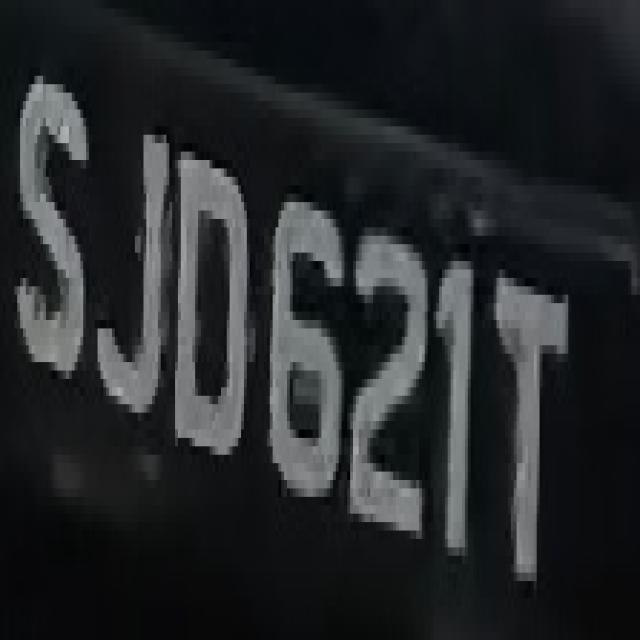1: (430, 202, 480, 564)
2: (350, 177, 431, 572)
6: (264, 135, 347, 539)
D: (170, 109, 252, 480)
J: (89, 76, 169, 429)
S: (14, 34, 92, 412)
T: (479, 228, 574, 606)
